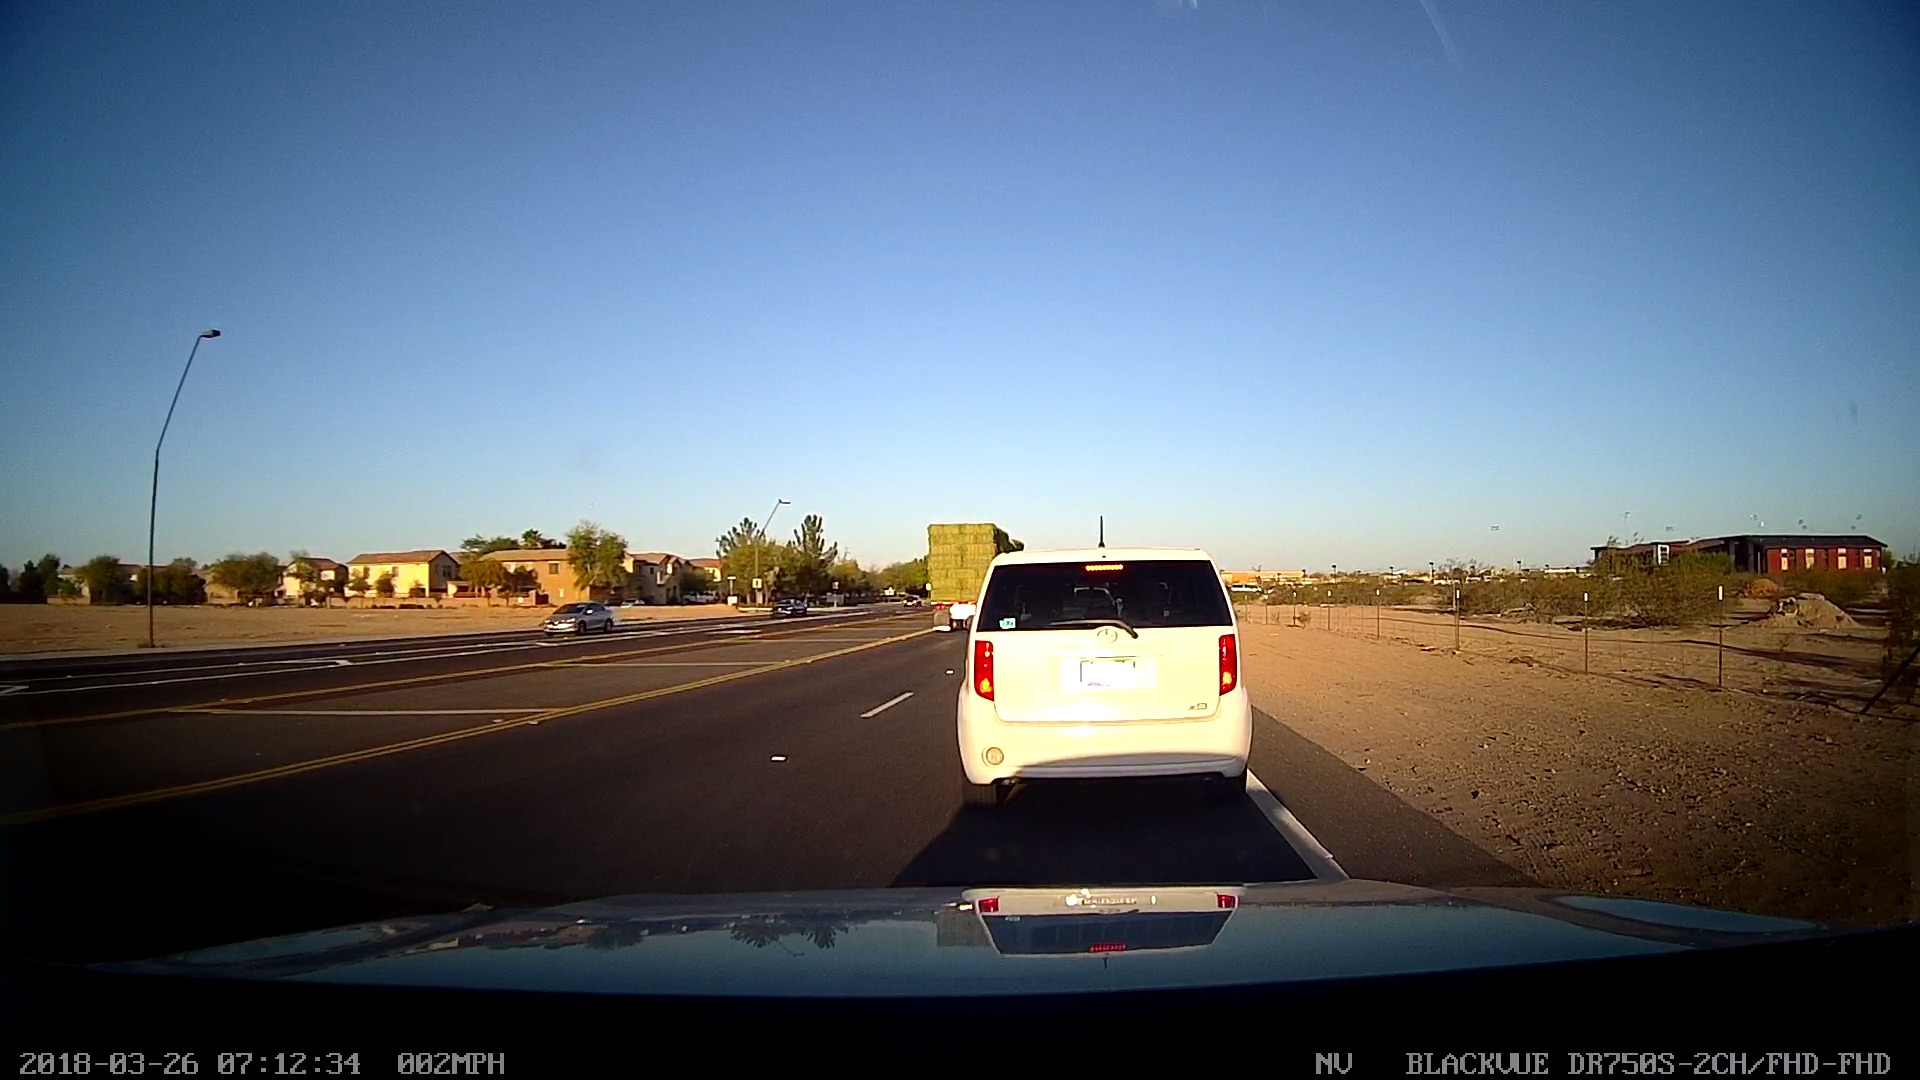plate: (1069, 649, 1144, 692)
vehicle: (946, 545, 1249, 797), (923, 513, 1025, 636), (537, 598, 617, 639), (765, 591, 801, 621)
